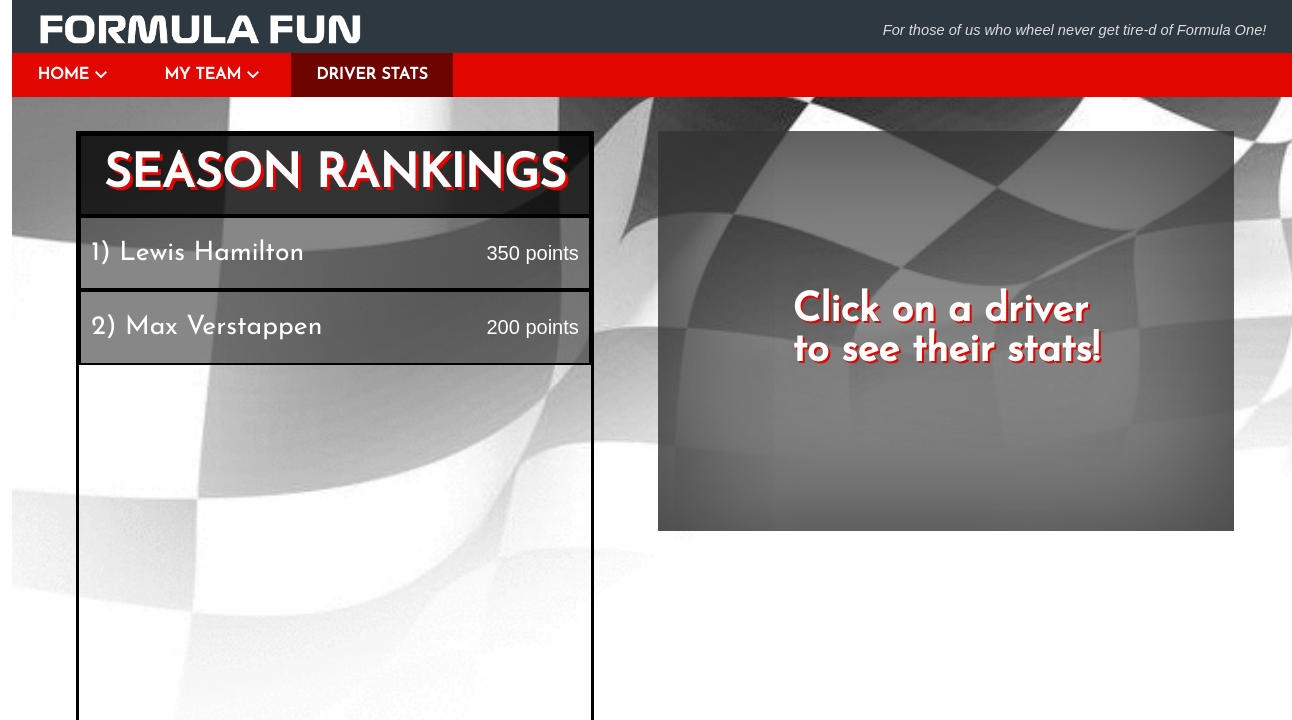
Test: Driver Stats Page › should allow the user to click on each driver and display that driver's information
Click the element showing "1) Lewis Hamilton 350 points" at (335, 254), box x1=79 y1=216 x2=591 y2=291
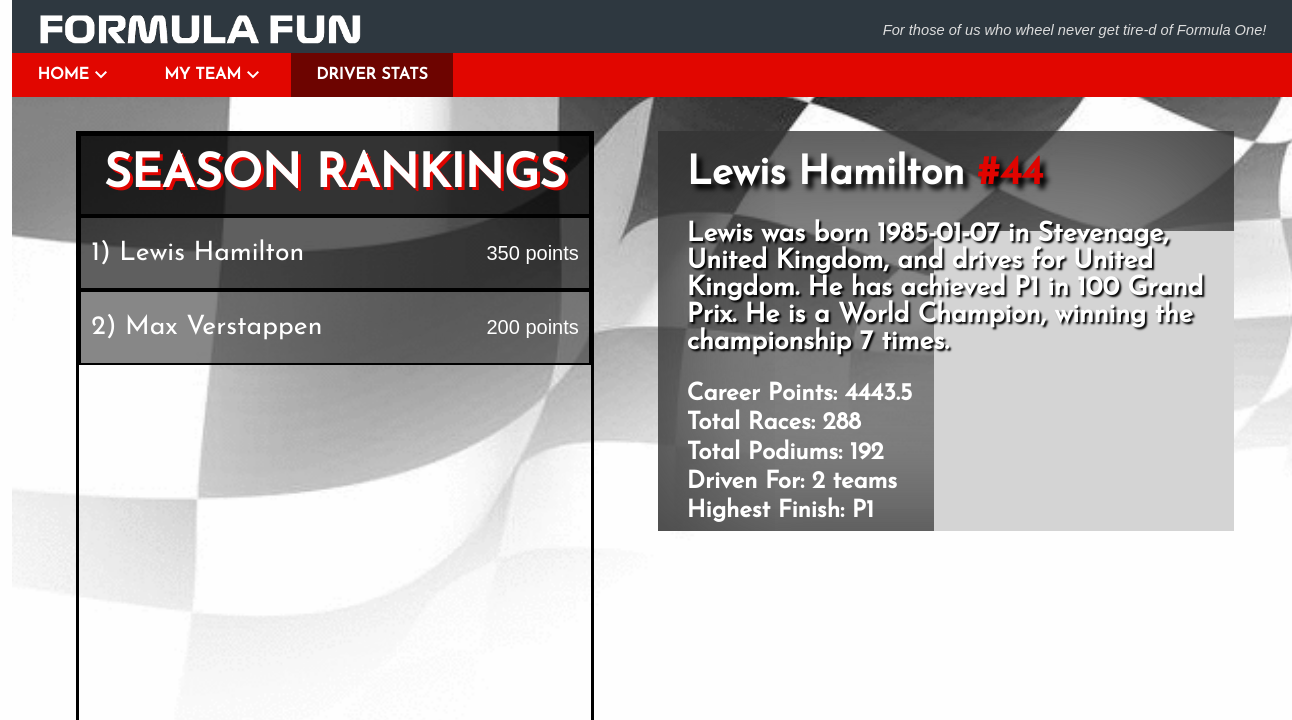
Check: the text "Lewis was born 1985-01-07 in Stevenage, United Kingdom" is shown, box x1=687 y1=221 x2=1205 y2=356
